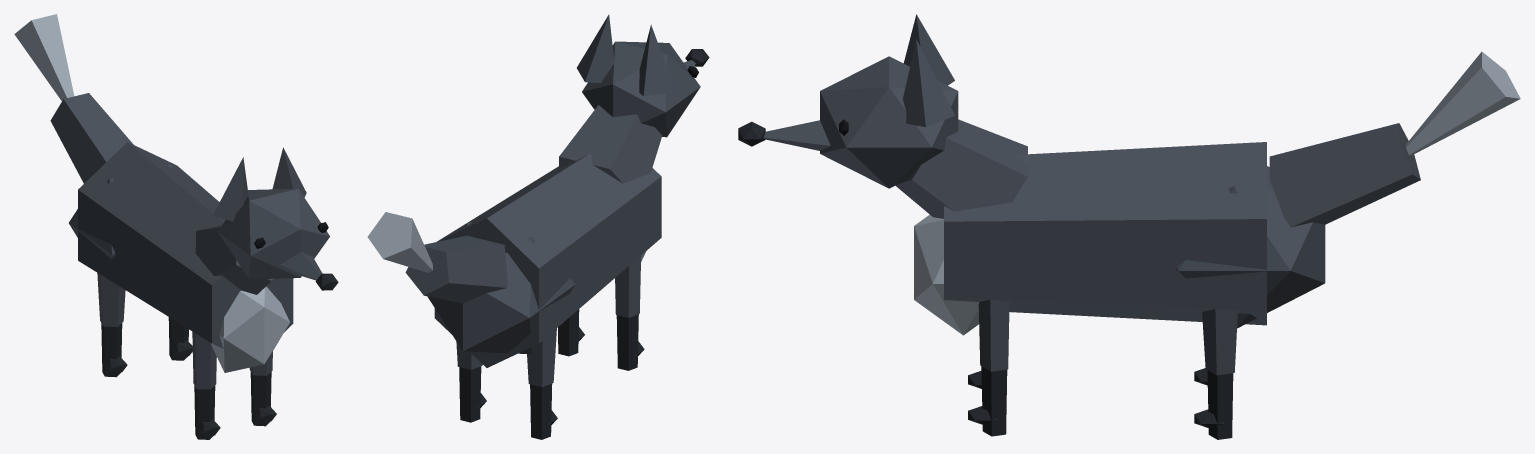
File: fox_a.glb
The picture shows the model from 3 angles, left to right: view 1: azimuth 30°, elevation 25°; view 2: azimuth 150°, elevation 25°; view 3: azimuth 270°, elevation 25°; orthographic projection. The views are drawn at different scales.
Parts seen in each view (by area): view 1: torso, skull, Fox, chest, tail, tailTip, neck, ear (×2), snout, hips; view 2: torso, Fox, hips, skull, tail, neck, ear (×2), tailTip; view 3: torso, skull, tail, Fox, neck, hips, tailTip, chest, ear (×2), snout.
Boxes of the visible parts, x1,y1,x2,y2 form: torso: (78, 142, 293, 348); skull: (217, 188, 329, 279); Fox: (97, 273, 276, 439); chest: (211, 286, 289, 372); tail: (50, 93, 133, 183); tailTip: (14, 14, 74, 100); neck: (195, 225, 272, 294); ear (×2): (212, 147, 306, 221); snout: (280, 252, 322, 280); hips: (69, 164, 173, 258); torso: (434, 153, 661, 367); Fox: (456, 255, 644, 439); hips: (427, 222, 575, 354); skull: (582, 41, 700, 137); tail: (405, 235, 507, 303); neck: (559, 105, 662, 183); ear (×2): (577, 14, 675, 96); tailTip: (367, 212, 432, 272); torso: (944, 142, 1266, 325); skull: (820, 56, 958, 188); tail: (1269, 123, 1420, 227); Fox: (968, 299, 1237, 439); neck: (895, 119, 1027, 218); hips: (1176, 166, 1325, 328); tailTip: (1406, 51, 1520, 155); chest: (914, 214, 979, 335); ear (×2): (903, 14, 954, 127); snout: (763, 120, 830, 150).
Size of the model in its own units: 0.4594 by 1.32 by 2.42.
